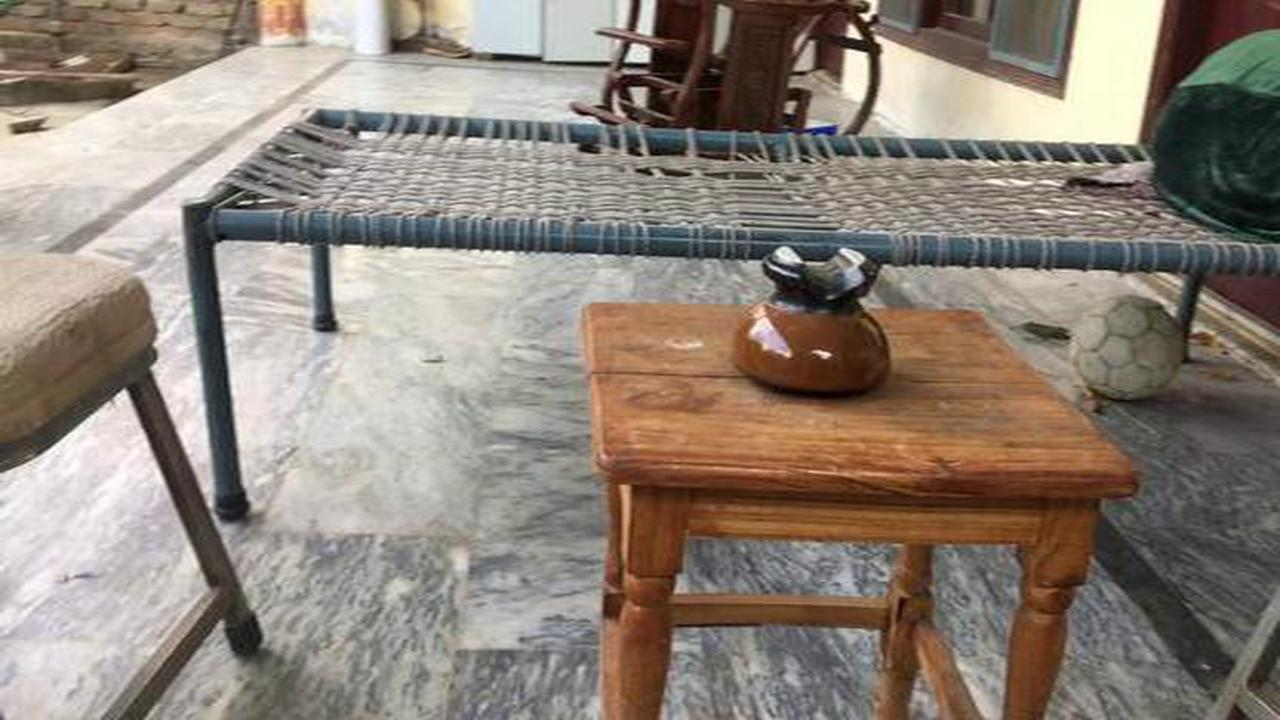insulator_pin: (708, 222, 914, 411)
